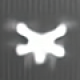plane: (9, 18, 71, 67)
